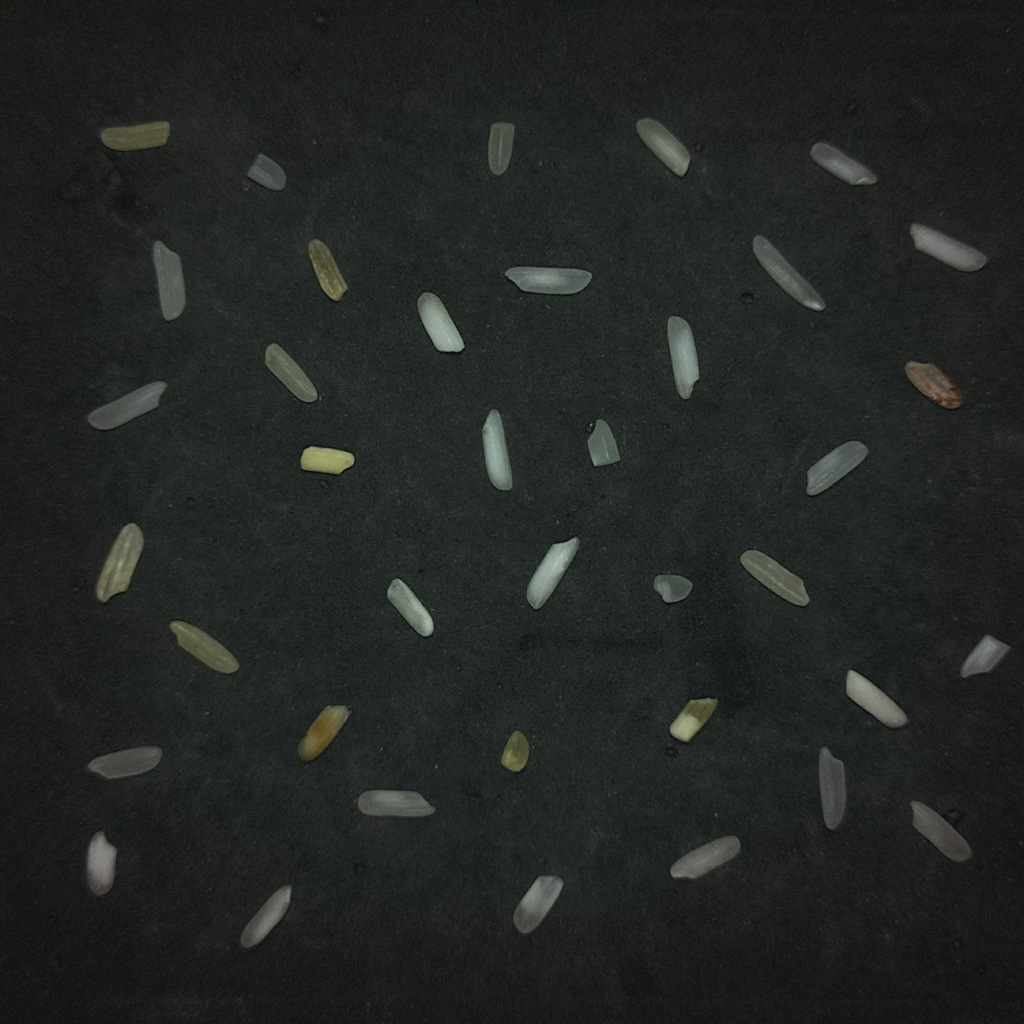broken: (740, 549, 809, 606), (635, 118, 690, 176), (667, 316, 698, 399), (960, 634, 1011, 677), (588, 419, 619, 466), (488, 122, 514, 175), (247, 154, 285, 190), (653, 574, 692, 602)
chalky: (527, 537, 578, 609), (910, 224, 986, 271), (476, 406, 516, 495), (846, 670, 906, 728), (240, 885, 290, 947), (417, 292, 464, 352), (387, 579, 433, 636), (86, 831, 116, 895)
damaged: (669, 698, 717, 741)
discolored: (170, 620, 238, 673), (298, 706, 350, 761), (309, 239, 347, 301), (100, 121, 169, 151), (300, 446, 353, 474), (501, 730, 529, 772)
red: (905, 361, 962, 408)
whole: (752, 236, 824, 310), (87, 382, 166, 430), (95, 524, 143, 602), (910, 801, 971, 861), (806, 440, 867, 495), (670, 835, 740, 879), (265, 344, 317, 402), (513, 876, 563, 933), (810, 142, 876, 185), (152, 241, 185, 320), (87, 746, 161, 779), (505, 267, 591, 294), (357, 790, 435, 817), (819, 747, 844, 829)
